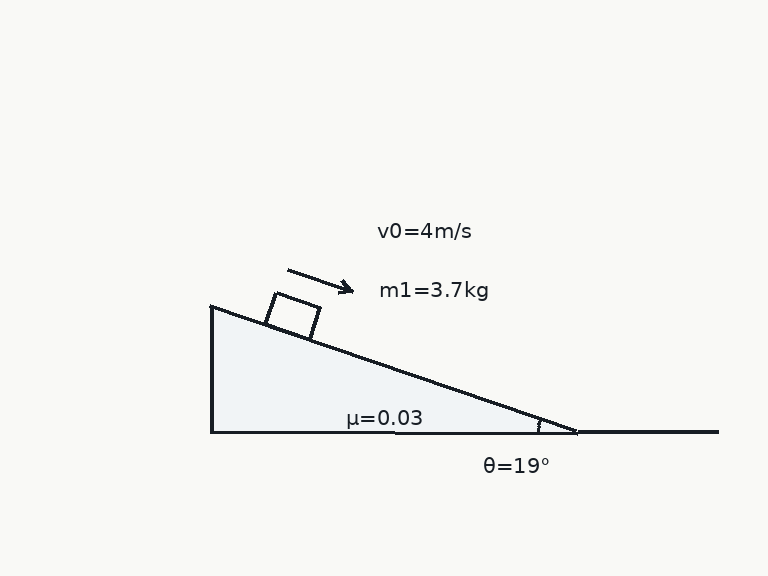block: (263, 290, 322, 341)
ramp: (209, 304, 580, 434)
